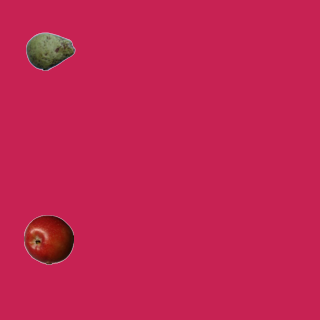Apple Braeburn: (23, 214, 73, 264)
Pear Stone: (25, 26, 75, 76)
